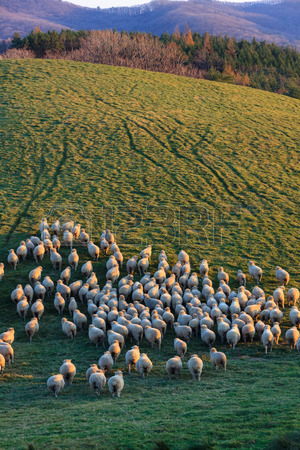sheep: (142, 324, 162, 353), (164, 354, 184, 382), (106, 369, 125, 398), (89, 367, 107, 396), (209, 346, 228, 373), (87, 322, 105, 350), (47, 373, 66, 399), (106, 328, 125, 354), (124, 344, 141, 373), (126, 320, 144, 347), (59, 358, 76, 386), (136, 351, 153, 379), (170, 320, 192, 341), (59, 316, 77, 341), (260, 324, 275, 354), (188, 353, 204, 381), (200, 323, 217, 349), (141, 293, 164, 312), (226, 323, 242, 350), (98, 350, 115, 375), (172, 336, 188, 362), (24, 317, 40, 343), (285, 323, 300, 350), (109, 319, 129, 339), (274, 265, 291, 288), (248, 259, 263, 285), (51, 290, 67, 314), (16, 295, 30, 322), (65, 247, 80, 271), (31, 241, 46, 265), (184, 301, 202, 320), (11, 284, 27, 305), (6, 246, 19, 271), (54, 279, 71, 298), (87, 240, 101, 263), (27, 264, 43, 283), (1, 325, 16, 345), (30, 297, 44, 318), (197, 259, 211, 280), (177, 310, 194, 326), (246, 301, 262, 318), (89, 314, 107, 329), (125, 254, 138, 274), (217, 265, 230, 282), (71, 222, 82, 242), (66, 296, 78, 314), (287, 305, 300, 320), (139, 244, 151, 259)
